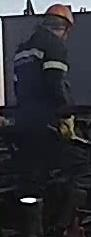gloves: (57, 111, 77, 143)
helmet: (44, 3, 77, 29)
vest: (13, 34, 68, 150)
